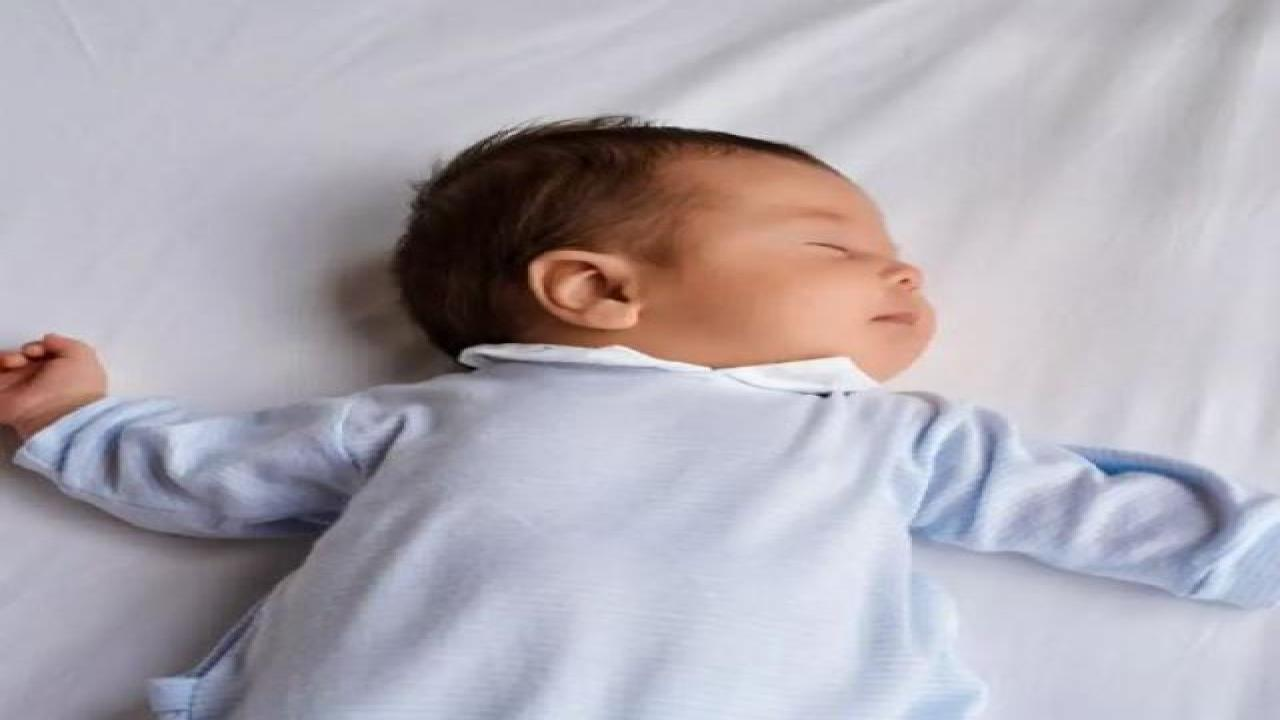hand: (2, 336, 108, 424)
